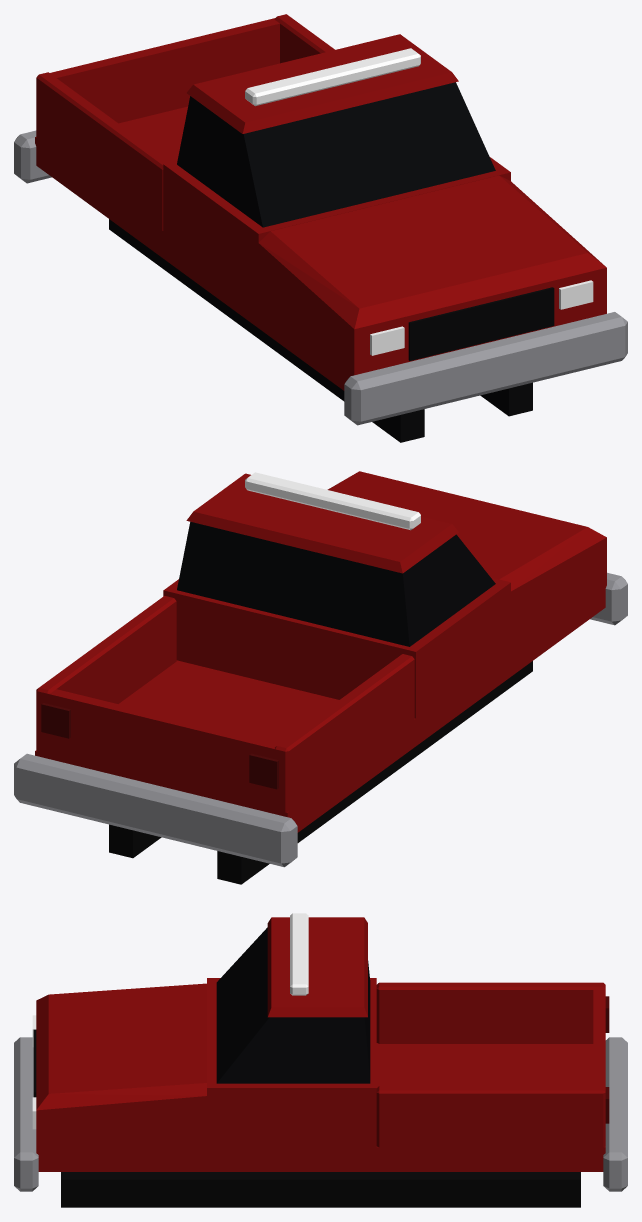
The model's file is Monster Truck.obj.
3 renders of one model, top to bottom at view 1: azimuth 30°, elevation 25°; view 2: azimuth 150°, elevation 25°; view 3: azimuth 270°, elevation 25°, orthographic. The views are drawn at different scales.
Visible parts, largest first — view 1: Body, Glass, Chrome, Trim, Headlights; view 2: Body, Glass, Chrome, Trim, Headlights, Taillights; view 3: Body, Trim, Glass, Chrome, Headlights.
Boxes of the visible parts, left/top/right/bottom form: Body: left=35, top=14, right=606, bottom=390; Glass: left=177, top=82, right=495, bottom=227; Chrome: left=14, top=130, right=627, bottom=425; Trim: left=109, top=219, right=554, bottom=442; Headlights: left=245, top=48, right=593, bottom=355; Body: left=35, top=471, right=606, bottom=832; Glass: left=177, top=521, right=495, bottom=646; Chrome: left=14, top=572, right=627, bottom=867; Trim: left=109, top=661, right=532, bottom=884; Headlights: left=245, top=472, right=420, bottom=530; Taillights: left=41, top=703, right=278, bottom=789; Body: left=36, top=917, right=605, bottom=1171; Trim: left=33, top=1029, right=580, bottom=1207; Glass: left=216, top=927, right=370, bottom=1083; Chrome: left=14, top=1037, right=627, bottom=1191; Headlights: left=32, top=913, right=308, bottom=1129.
Bounding box in the file's own units: 2.3 × 2.05 × 4.96.
